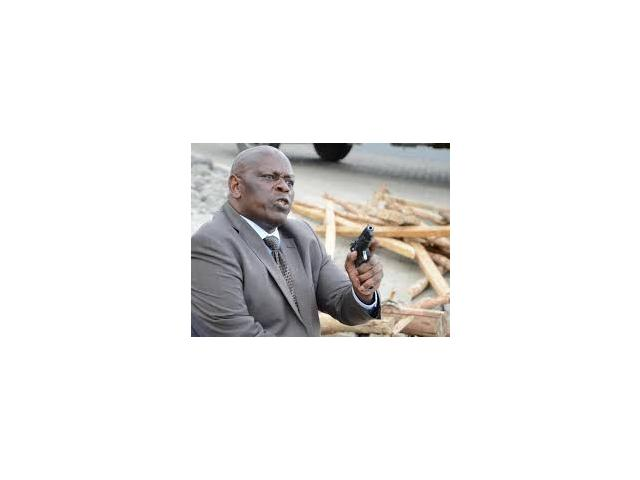pistol: (346, 226, 383, 296)
